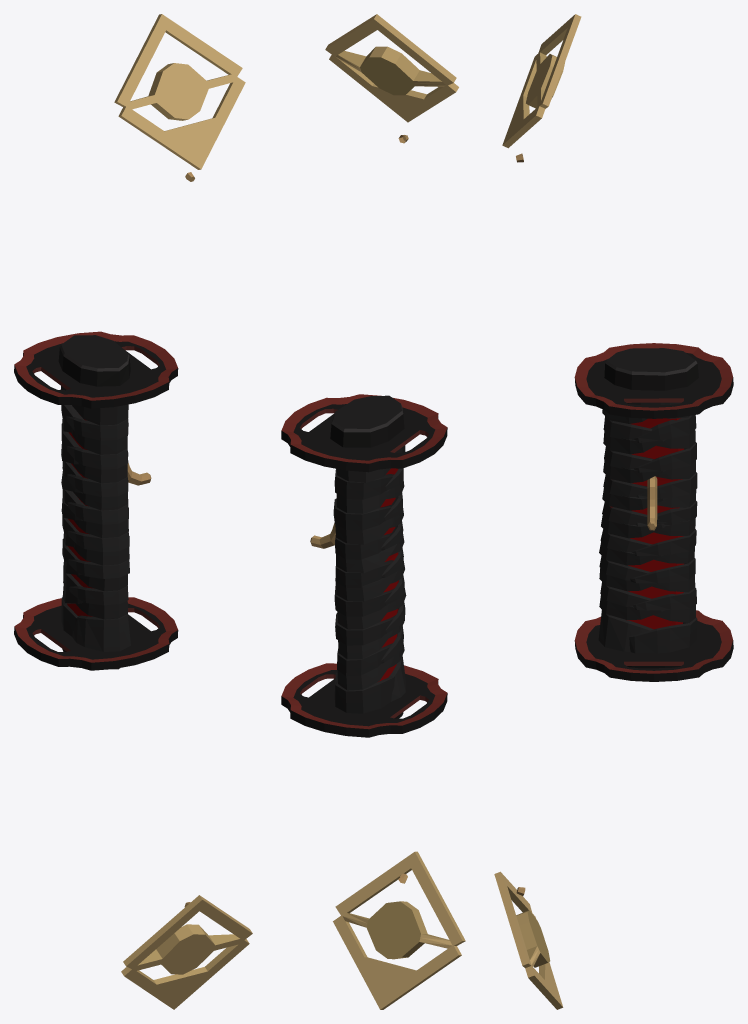
File: largeBowSamuraiSimpleHandle.glb
3 renders of one model, left to right at view 1: azimuth 30°, elevation 25°; view 2: azimuth 150°, elevation 25°; view 3: azimuth 270°, elevation 25°, orthographic.
Visible parts, largest first — view 1: largeBowSamuraiSimpleHandle; view 2: largeBowSamuraiSimpleHandle; view 3: largeBowSamuraiSimpleHandle.
Boxes of the visible parts, x1,y1,x2,y2 form: largeBowSamuraiSimpleHandle: (14,14,252,1009); largeBowSamuraiSimpleHandle: (281,14,465,1009); largeBowSamuraiSimpleHandle: (494,14,733,1009).
Size of the model in its own units: 0.1783 by 1.05 by 0.2298.
